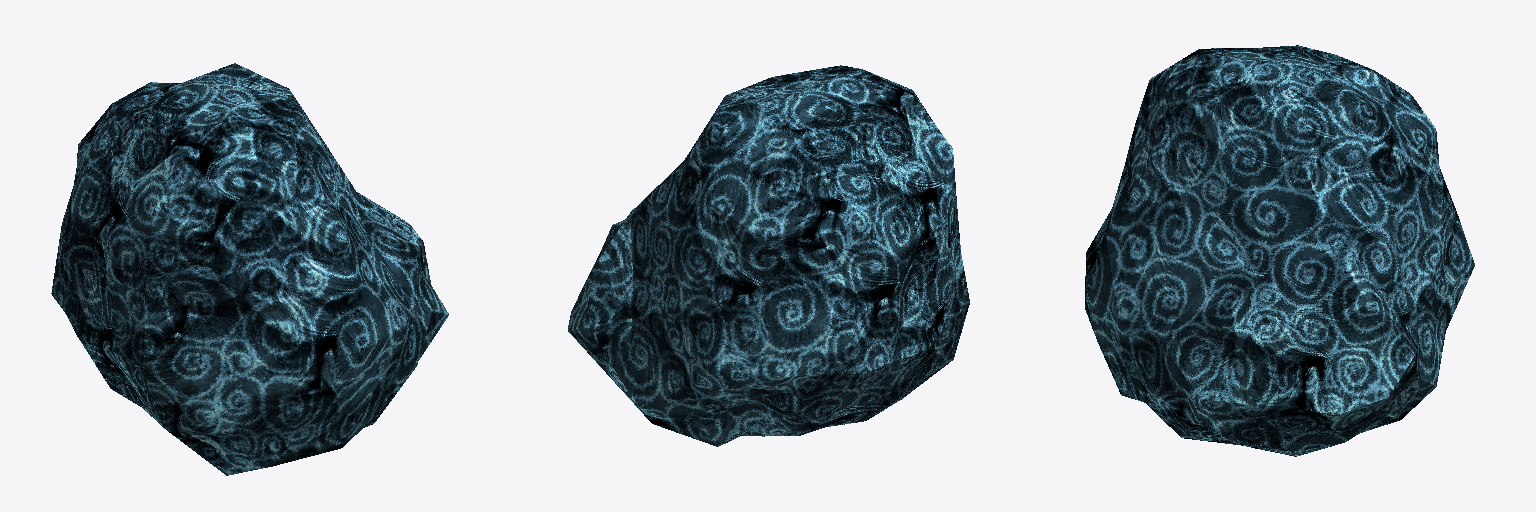
The picture shows the model from 3 angles: view 1: azimuth 30°, elevation 25°; view 2: azimuth 150°, elevation 25°; view 3: azimuth 270°, elevation 25°; orthographic projection.
Visible parts, largest first — view 1: rock.005; view 2: rock.005; view 3: rock.005.
Part boxes in pixels (left/top/right/bottom): rock.005: left=51, top=63, right=448, bottom=475; rock.005: left=568, top=65, right=969, bottom=446; rock.005: left=1085, top=45, right=1474, bottom=456.
Bounding box in the file's own units: 2 × 2 × 2.
1 materials, 1 textured.